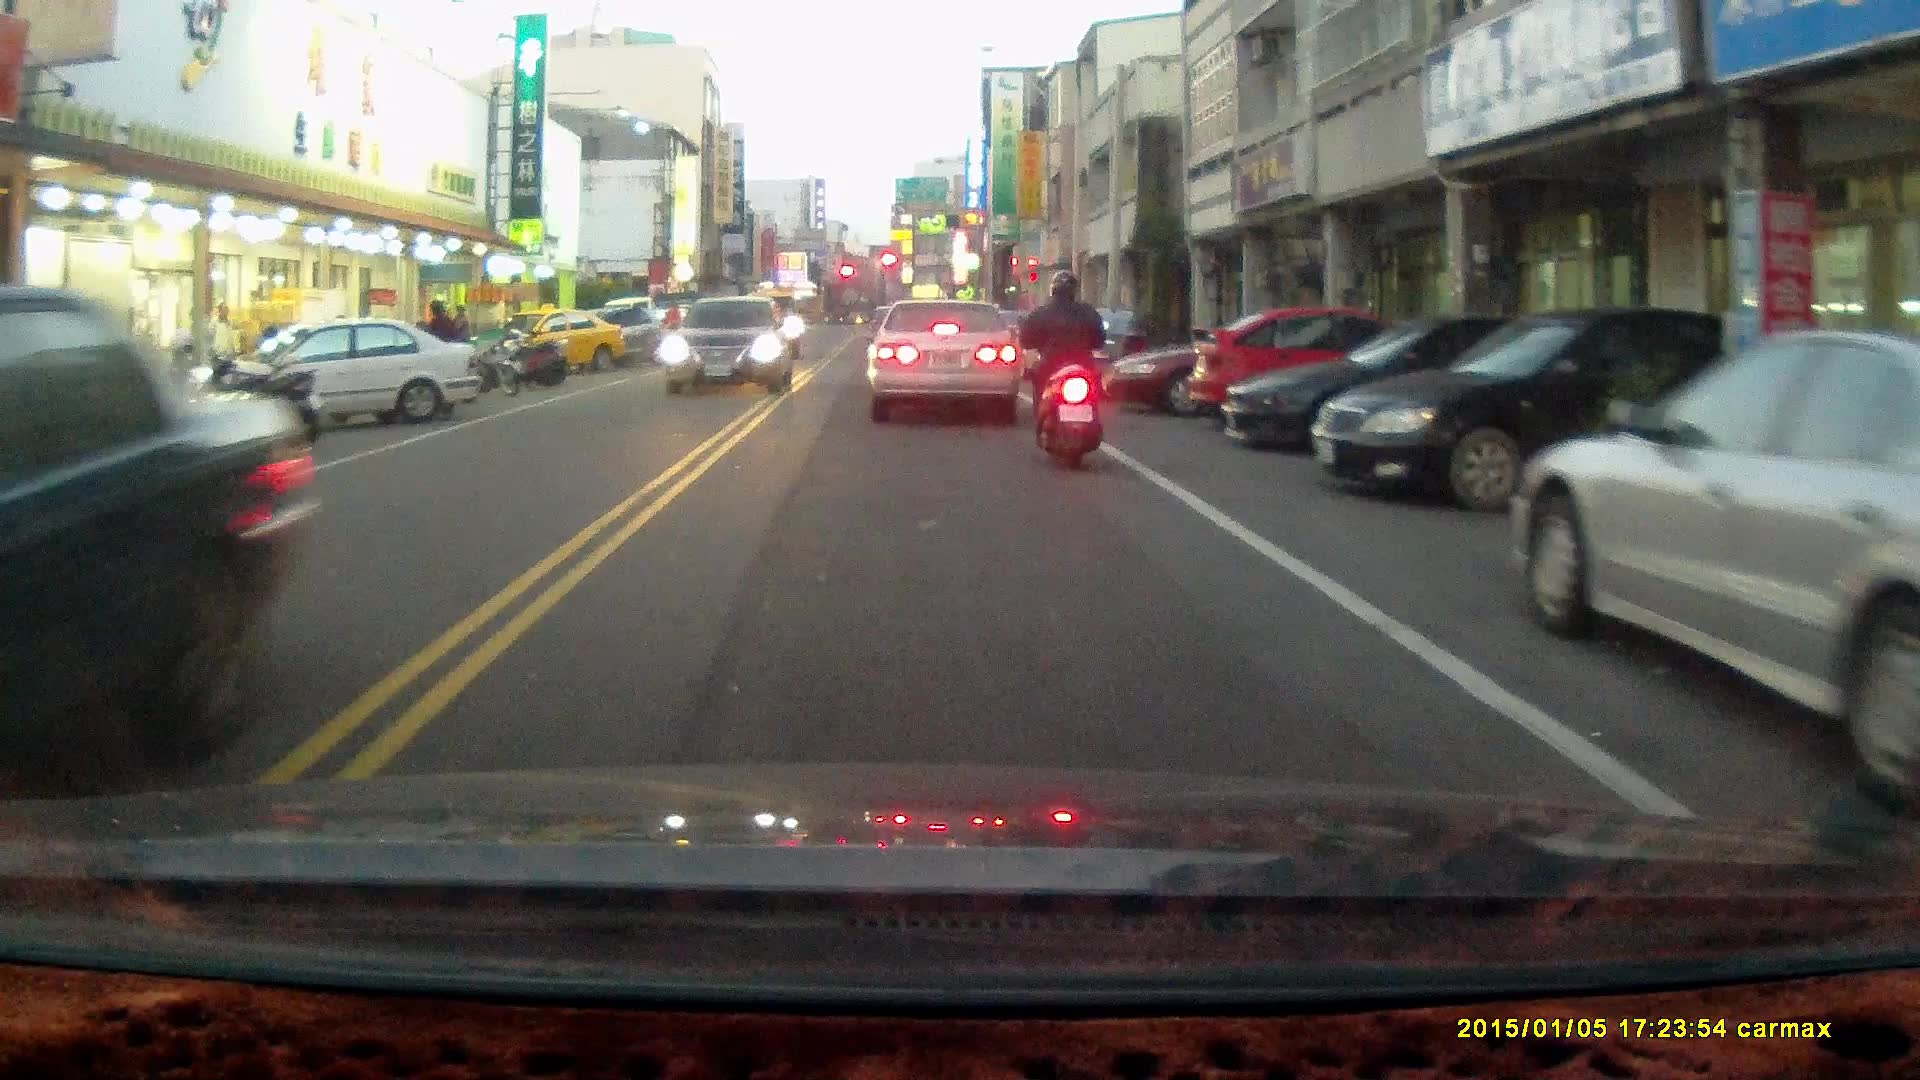pedestrian: (425, 295, 460, 379), (206, 302, 238, 387)
rider: (1018, 266, 1110, 472), (654, 297, 690, 369)
vehicle: (1516, 328, 1920, 814), (1, 286, 324, 797), (1311, 306, 1737, 513), (1222, 308, 1613, 456), (219, 306, 480, 430), (1186, 302, 1437, 430), (1106, 305, 1408, 408), (868, 294, 1025, 422), (666, 289, 797, 395), (512, 302, 633, 375)
